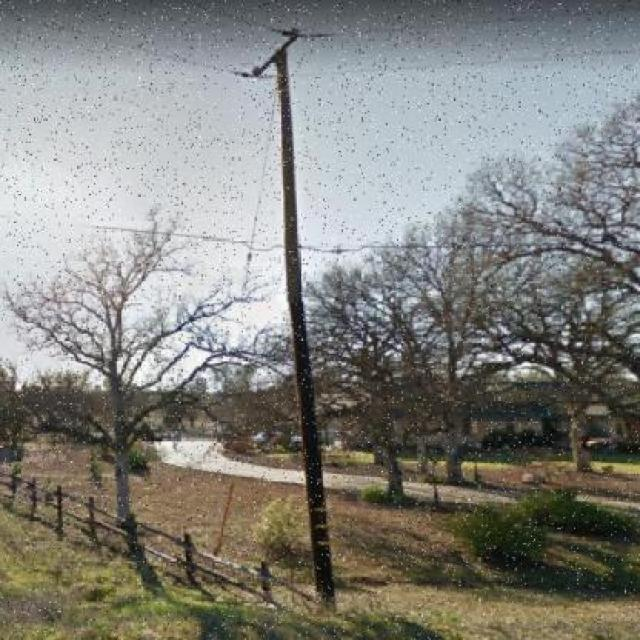light_pole: (215, 0, 363, 606)
